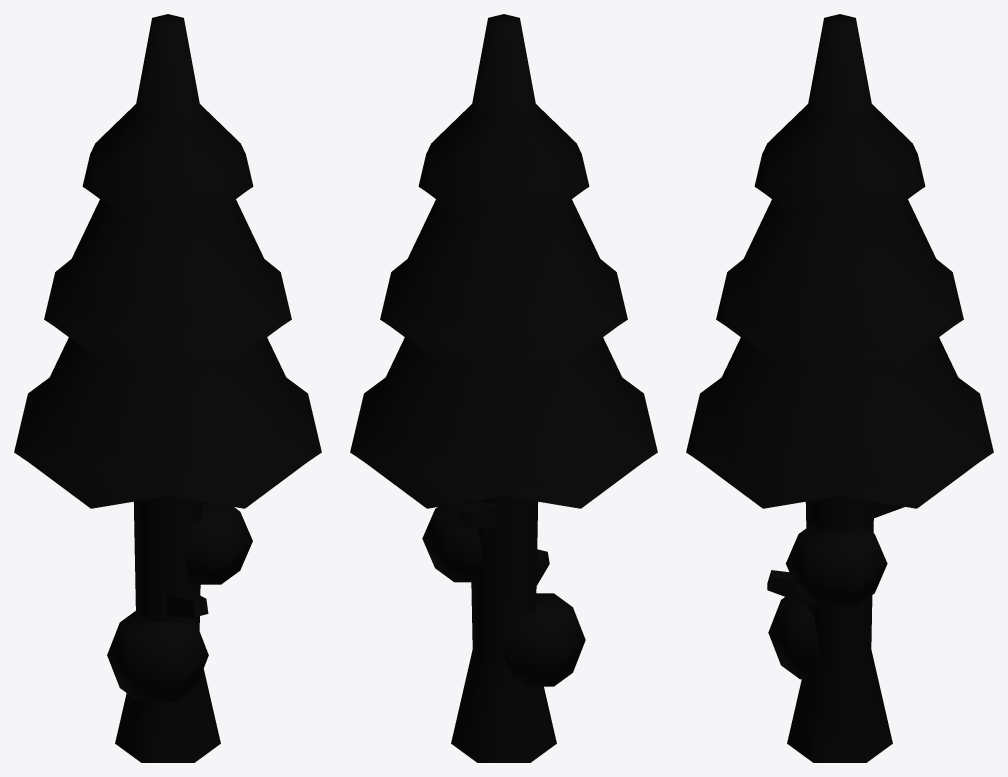
File: tree-high.glb
3 views of the same model, side by side, from view 1: azimuth 30°, elevation 25°; view 2: azimuth 150°, elevation 25°; view 3: azimuth 270°, elevation 25° (orthographic).
Visible parts, largest first — view 1: tree-high; view 2: tree-high; view 3: tree-high.
Boxes of the visible parts, box(x1,y1,x2,y2) form: tree-high: box(14, 14, 321, 762); tree-high: box(350, 14, 657, 762); tree-high: box(686, 14, 993, 762).
Bounding box in the file's own units: 0.9274 × 2.28 × 0.8828.
Materials: 1 (1 with a texture image).
